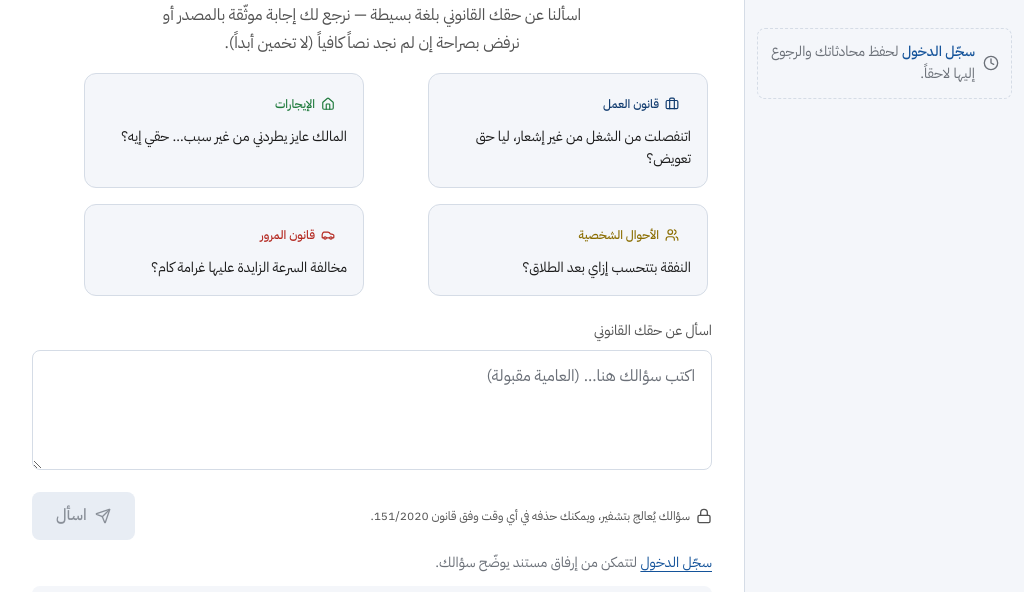
Scenario: ChatScreen › الاستيضاح › جولة ثانية: الإجابات تتراكم عبر الجولات
In the text box labelled "اسأل عن حقك القانوني": (372, 410) [32,350,712,470], type "ما حقوقى عند الفصل؟"
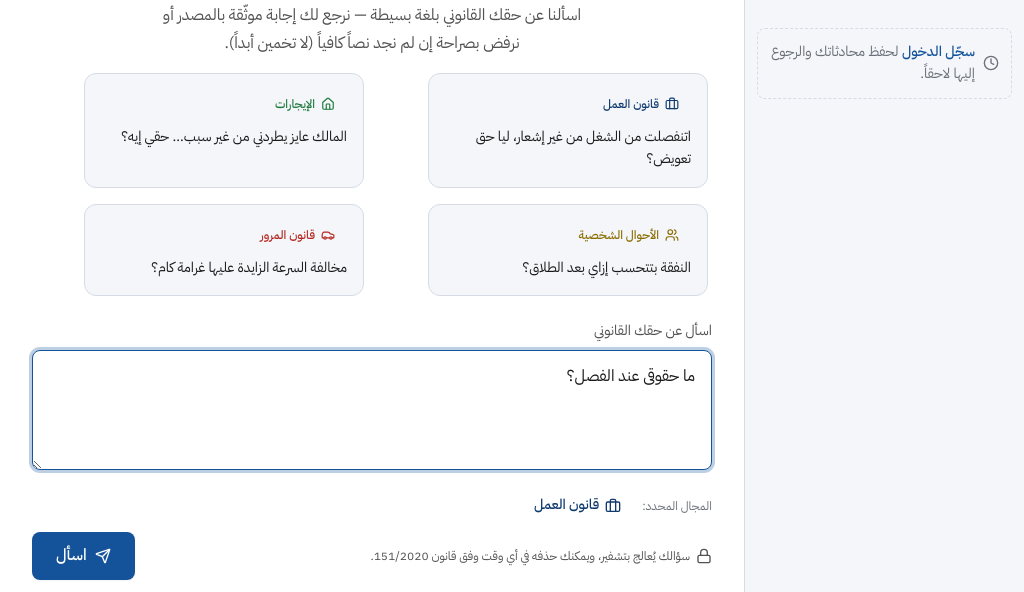
Click the button with aria-label "إرسال السؤال": (83, 556) [32,532,135,580]
(page scrolled)
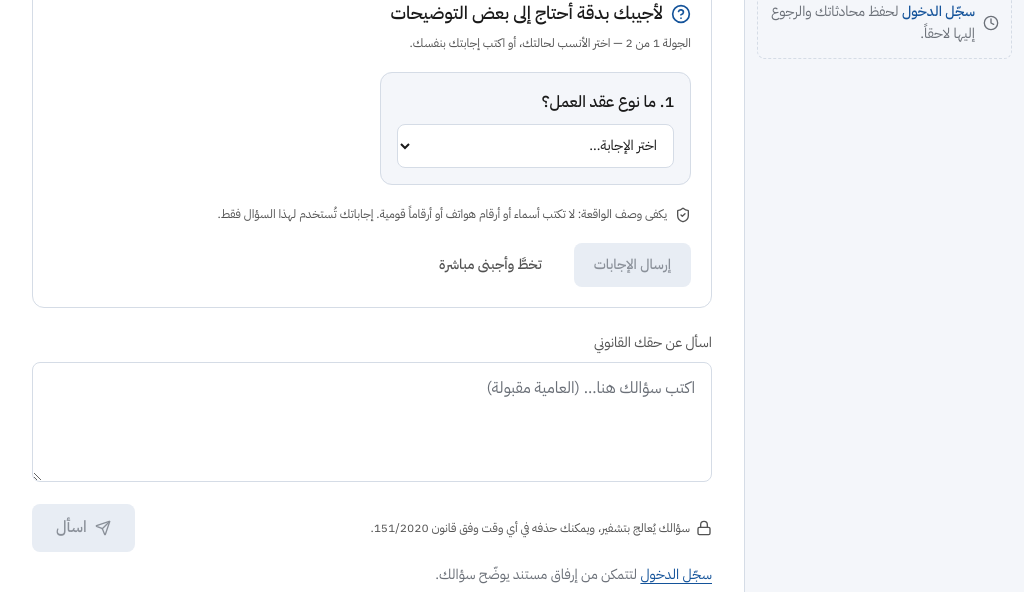
expect the text "1. ما نوع عقد العمل؟" is shown: met, box [542,90,674,114]
Select "محدد المدة" in the dropdown labelled "1. ما نوع عقد العمل؟": (536, 146) [397,124,674,168]
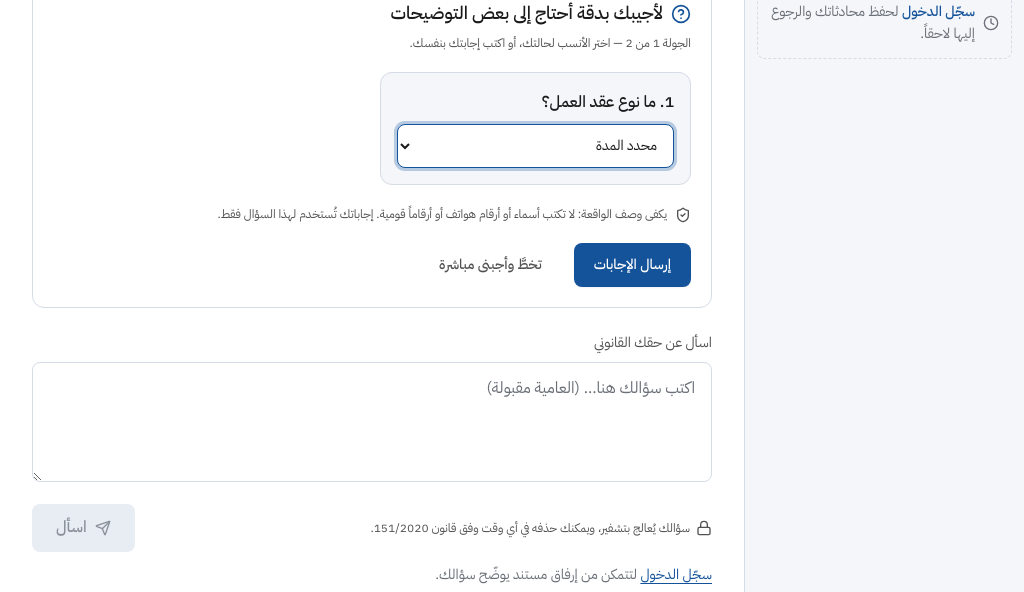
Click the button "إرسال الإجابات": (632, 265) [574,243,691,287]
(page scrolled)
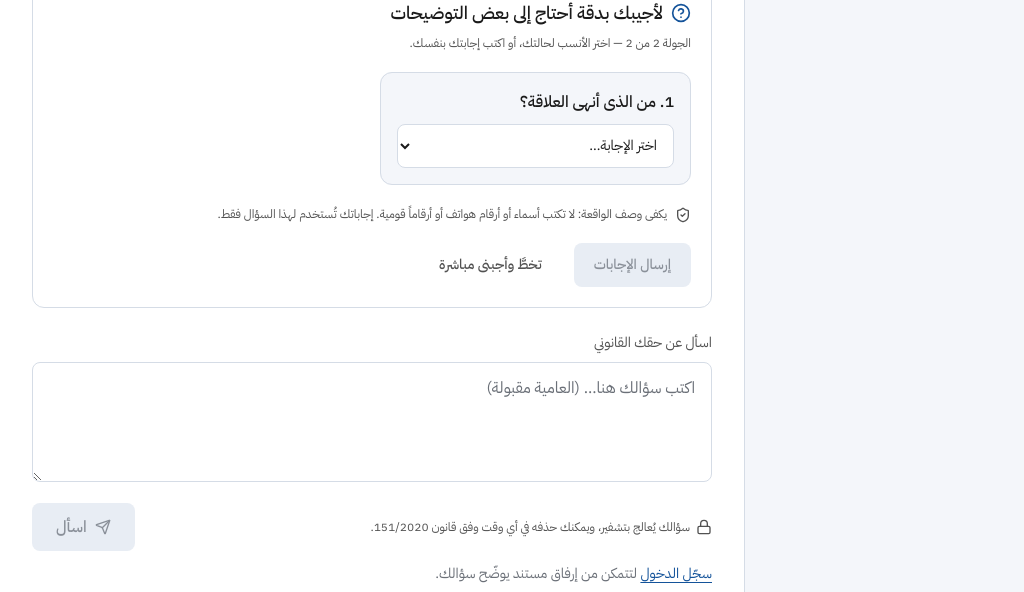
expect the text "1. من الذى أنهى العلاقة؟" is shown: met, box [520,90,674,114]
Select "لا أعرف" in the dropdown labelled "1. من الذى أنهى العلاقة؟": (536, 146) [397,124,674,168]
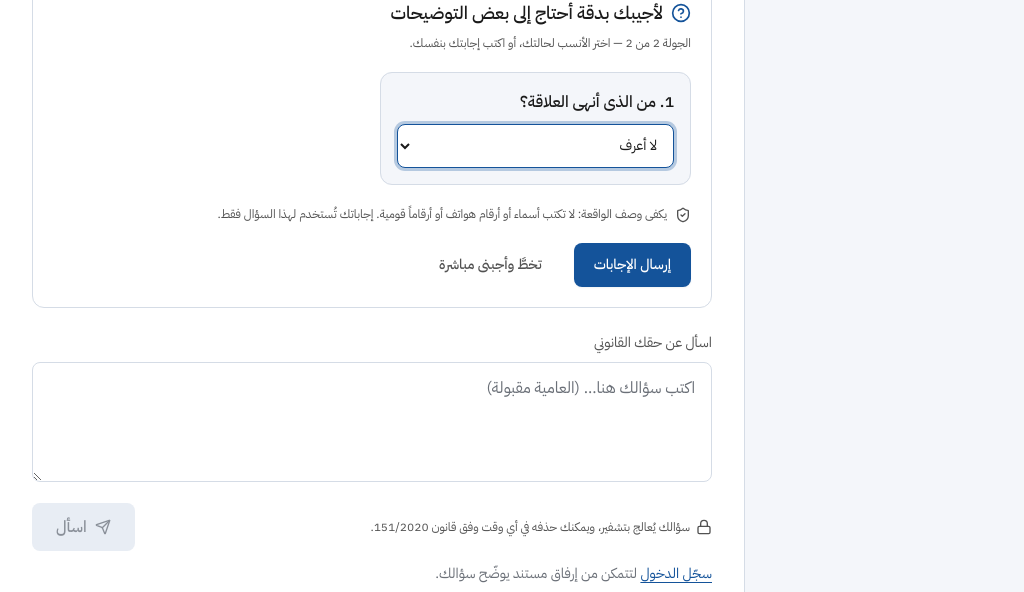
Click the button "إرسال الإجابات": (632, 265) [574,243,691,287]
(page scrolled)
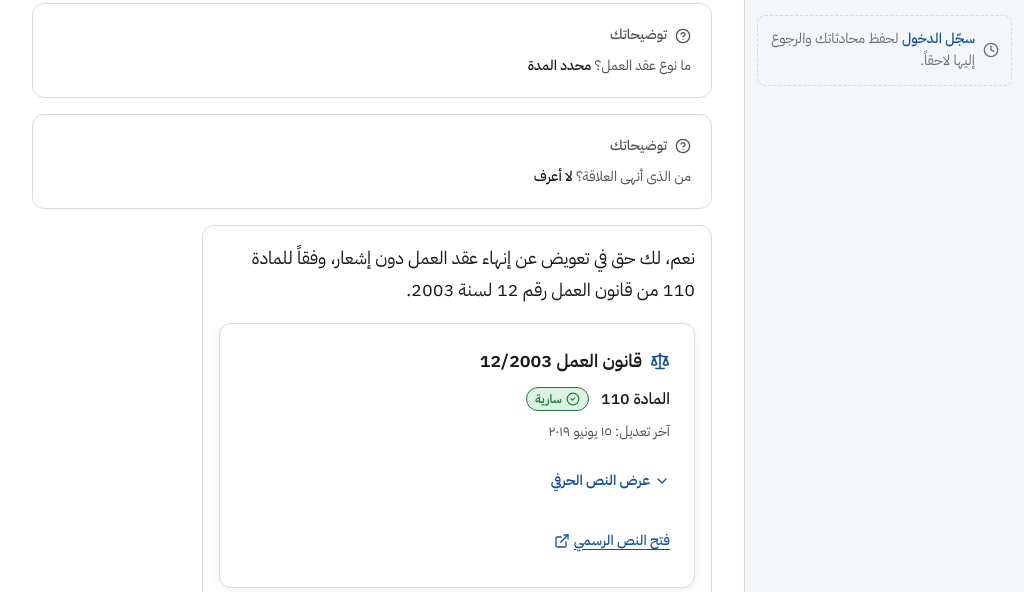
expect the text "نعم، لك حق في تعويض عن إنهاء عقد العمل دون إشعار، وفقاً للمادة 110 من قانون العمل رقم 12 لسنة 2003." is shown: met, box [252,244,695,303]
